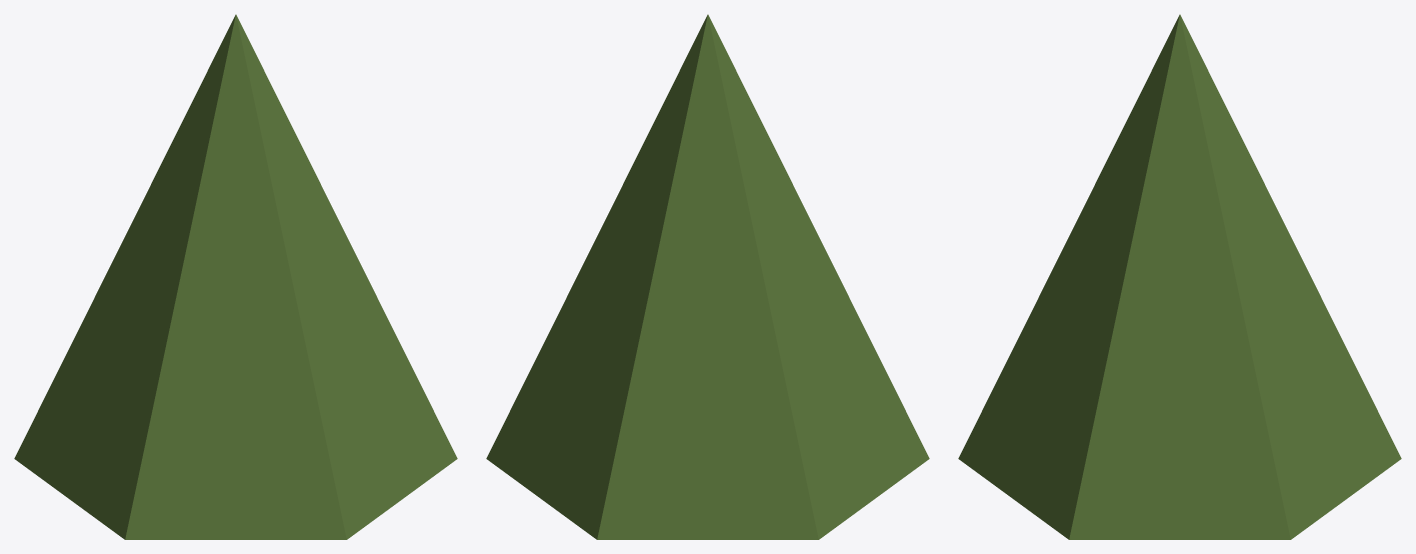
The model's file is br_willow_b_lod2.glb.
3 views of the same model, side by side, from view 1: azimuth 30°, elevation 25°; view 2: azimuth 150°, elevation 25°; view 3: azimuth 270°, elevation 25° (orthographic).
Parts seen in each view (by area): view 1: br_willow_b_lod2; view 2: br_willow_b_lod2; view 3: br_willow_b_lod2.
Boxes of the visible parts, <box> form: br_willow_b_lod2: <box>14,14,457,539</box>; br_willow_b_lod2: <box>486,14,929,539</box>; br_willow_b_lod2: <box>958,14,1401,539</box>.
Bounding box in the file's own units: 3.01 × 3.84 × 3.47.
